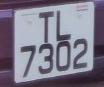0: (54, 39, 73, 75)
2: (72, 35, 91, 74)
3: (35, 40, 58, 78)
7: (17, 41, 39, 81)
L: (53, 5, 73, 42)
T: (36, 6, 54, 44)
